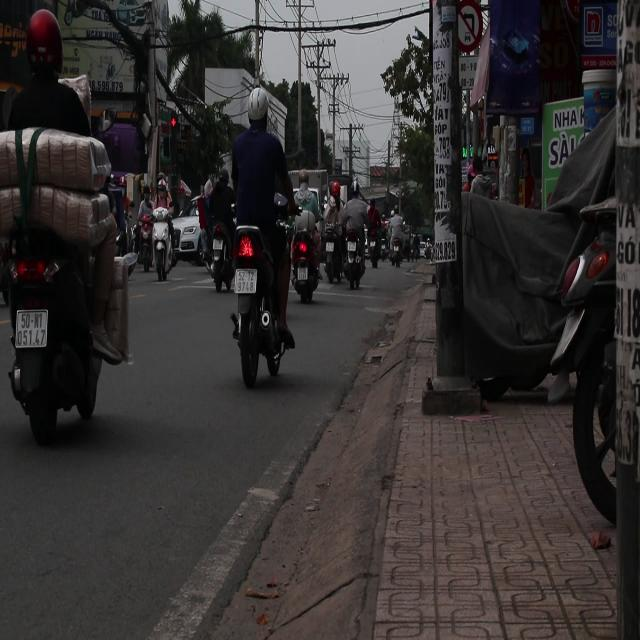car: (172, 202, 206, 264)
motorbike: (5, 212, 108, 444), (229, 214, 289, 388), (288, 214, 324, 304), (149, 209, 179, 282), (132, 213, 156, 276), (344, 230, 368, 290), (366, 222, 388, 268), (392, 236, 404, 268)
